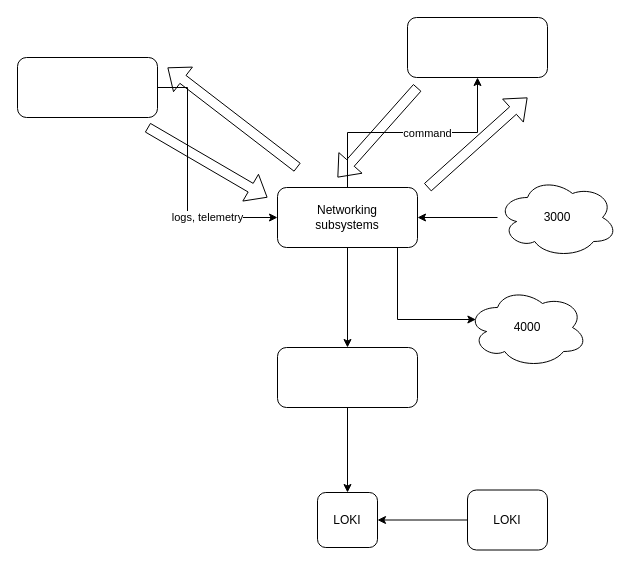
Image size: 635x568. Some labels were removed from this diagram. The shapes that lost their labels are listed below. From the top down, each one's centre as x and y in pixels, then its label:
At pixel 477 47: "Command Handling Subsystem".
At pixel 87 87: "Sampling Subsystem".
At pixel 347 377: "HOST MACHINE".
